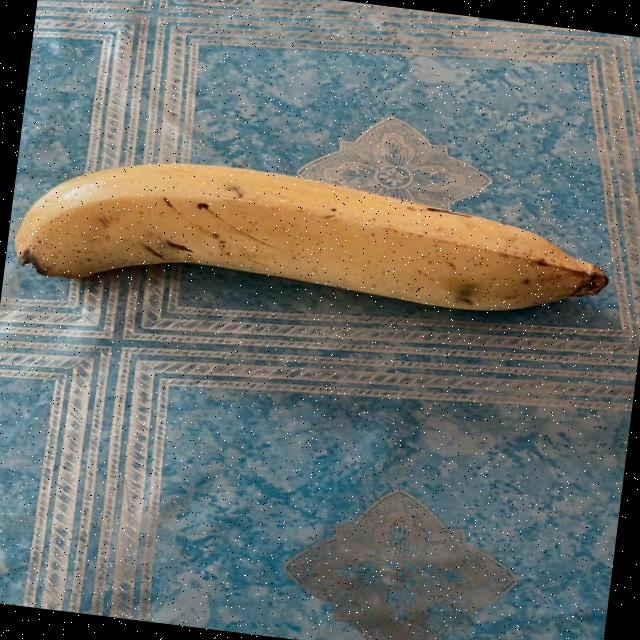Ripe: (1, 115, 628, 374)
